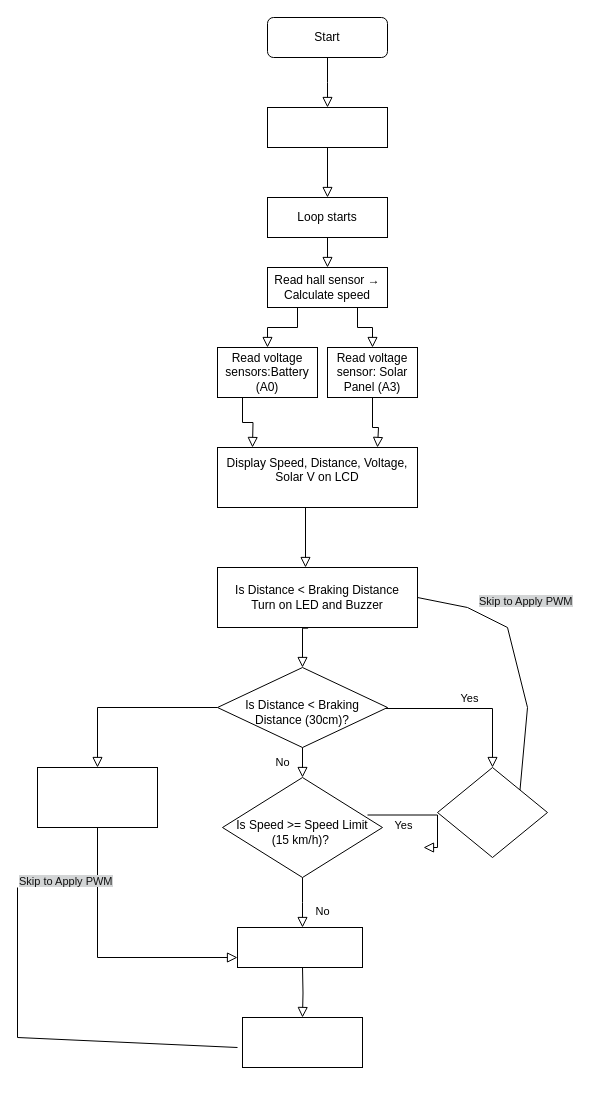
This 591x1093 diagram has some shape labels left out. The shapes that lost their labels are listed below. From the top down, each one's centre as x and y in pixels, then its label:
At pixel 327 127: "Initialize LCD, pins, interrupts".
At pixel 97 797: "Activate Brake(Relay ON) Turn ON LED & Buzzer".
At pixel 492 812: "Turn off LED & Buzzer".
At pixel 299 947: "Apply PWM to motors(ENA and ENB)".
At pixel 302 1042: "Wait 1 second (delay)".
